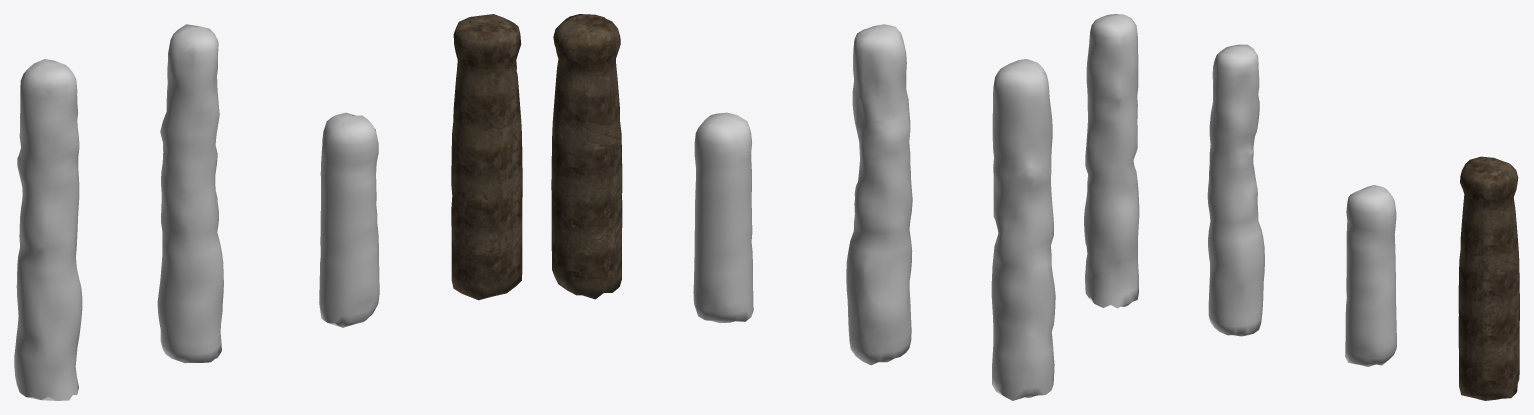
3 renders of one model, left to right at view 1: azimuth 30°, elevation 25°; view 2: azimuth 150°, elevation 25°; view 3: azimuth 330°, elevation 25°, orthographic. The views are drawn at different scales.
Parts seen in each view (by area): view 1: round pillar 2 low, round pillar 4 low, round pillar low, rpund pillar3 low; view 2: round pillar 2 low, round pillar low, round pillar 4 low, rpund pillar3 low; view 3: round pillar 2 low, round pillar low, round pillar 4 low, rpund pillar3 low.
Boxes of the visible parts, x1,y1,x2,y2 form: round pillar 2 low: [14, 59, 82, 400]; round pillar 4 low: [451, 14, 522, 300]; round pillar low: [157, 24, 223, 363]; rpund pillar3 low: [319, 112, 379, 327]; round pillar 2 low: [991, 59, 1055, 400]; round pillar low: [846, 24, 912, 365]; round pillar 4 low: [551, 14, 622, 299]; rpund pillar3 low: [693, 112, 753, 323]; round pillar 2 low: [1084, 14, 1139, 308]; round pillar low: [1207, 44, 1264, 336]; round pillar 4 low: [1458, 156, 1519, 400]; rpund pillar3 low: [1345, 185, 1396, 366].
Bounding box in the file's own units: 20.89 × 13.18 × 2.56.
